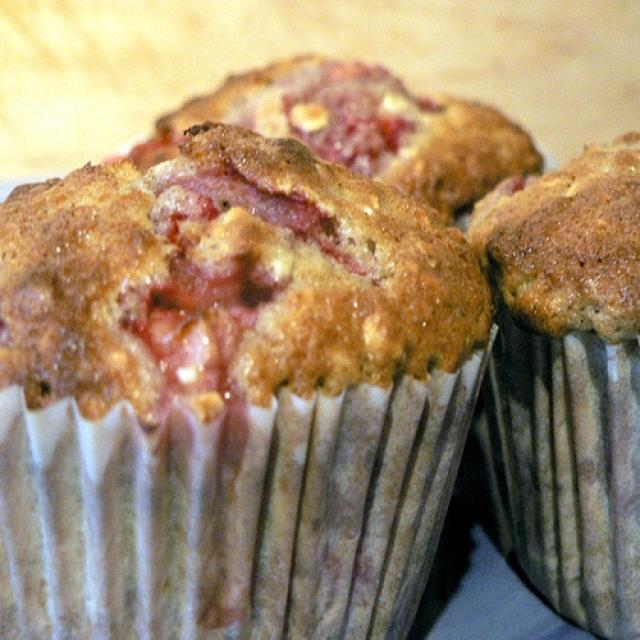炸货点心: (8, 26, 620, 620)
面包点心: (8, 26, 620, 620)
